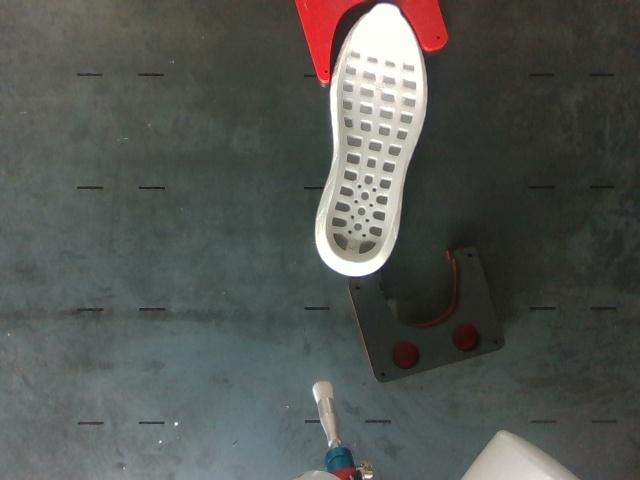shoes: (324, 4, 423, 263)
